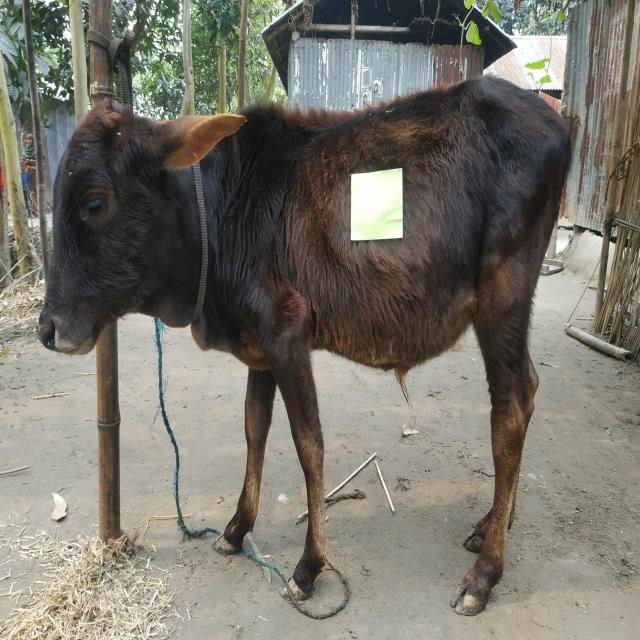badan_sapi: (262, 109, 558, 358)
sapi: (37, 71, 568, 618)
